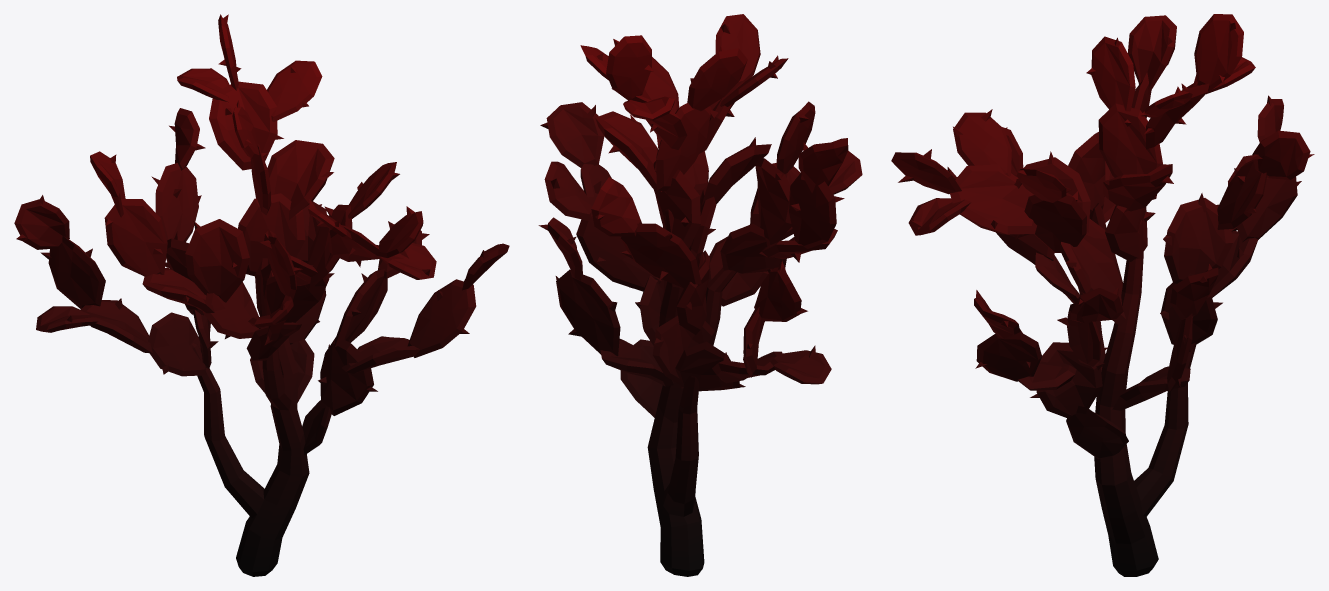
The model's file is SM_Env_Cactus_03.fbx.
3 views of the same model, side by side, from view 1: azimuth 30°, elevation 25°; view 2: azimuth 150°, elevation 25°; view 3: azimuth 270°, elevation 25° (orthographic). The views are drawn at different scales.
Parts seen in each view (by area): view 1: SM_Env_Cactus_03_LOD0; view 2: SM_Env_Cactus_03_LOD0; view 3: SM_Env_Cactus_03_LOD0.
Boxes of the visible parts, <box> form: SM_Env_Cactus_03_LOD0: <box>14,14,509,576</box>; SM_Env_Cactus_03_LOD0: <box>538,14,862,576</box>; SM_Env_Cactus_03_LOD0: <box>891,14,1314,576</box>.
Size of what is drawn, in the model's own units: 268 by 364 by 248.
